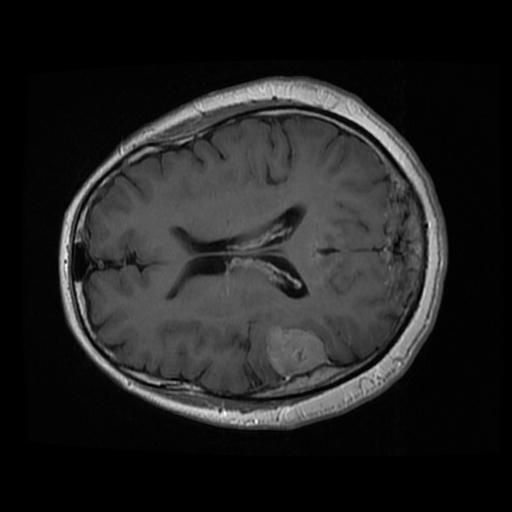meningioma: (265, 326, 327, 375)
